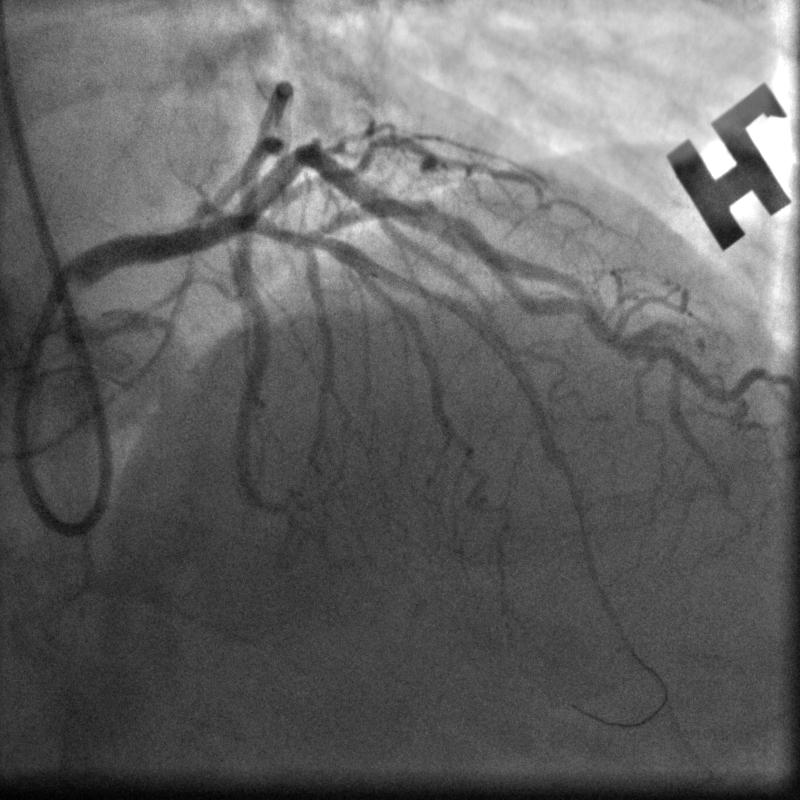Stenosis: (427, 193, 467, 234)
